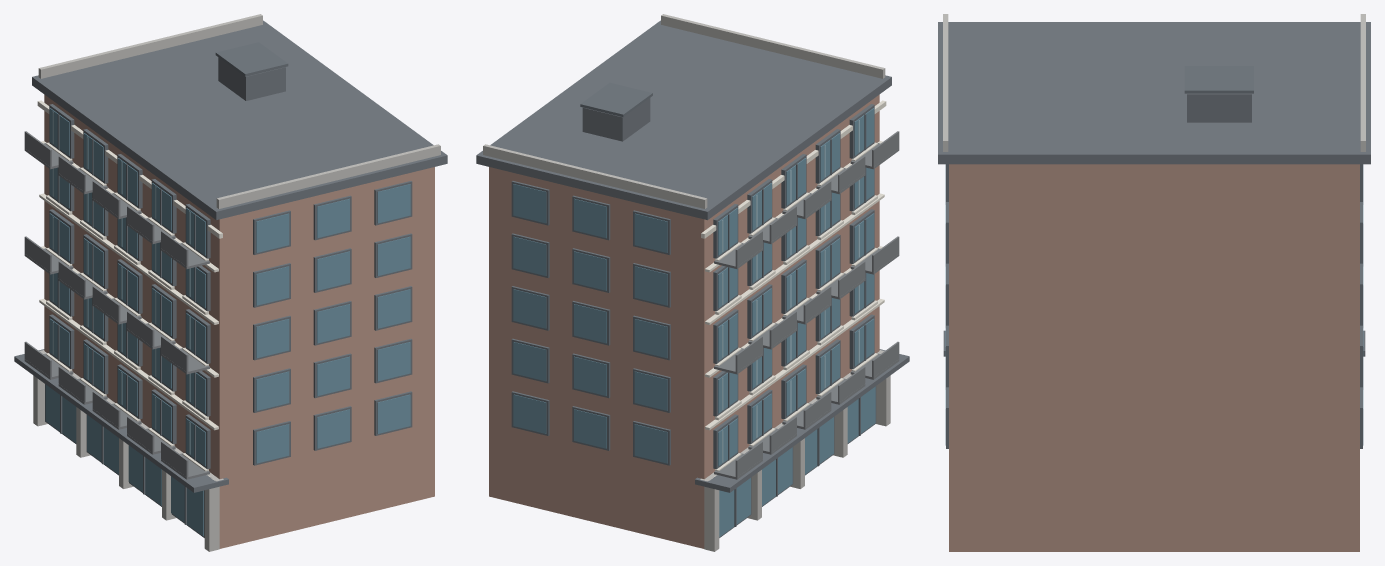
Rendered from edificio_v25_2.glb.
3 views of the same model, side by side, from view 1: azimuth 30°, elevation 25°; view 2: azimuth 150°, elevation 25°; view 3: azimuth 270°, elevation 25° (orthographic). The views are drawn at different scales.
Parts seen in each view (by area): view 1: brick, roof, glass, frame, balcony, concrete, trim, glasslight; view 2: brick, roof, glass, frame, balcony, concrete, trim, glasslight; view 3: brick, roof, frame, concrete, glass.
Boxes of the visible parts, box(x1,y1,x2,y2) form: brick: box(44, 94, 434, 548); roof: box(14, 20, 447, 492); glass: box(45, 108, 410, 536); frame: box(45, 42, 412, 537); balcony: box(24, 131, 209, 479); concrete: box(33, 14, 440, 551); trim: box(37, 100, 222, 480); glasslight: box(52, 111, 190, 454); brick: box(489, 94, 879, 548); roof: box(476, 20, 909, 492); glass: box(513, 108, 875, 536); frame: box(511, 82, 876, 537); balcony: box(714, 131, 899, 479); concrete: box(483, 14, 890, 551); trim: box(701, 100, 886, 480); glasslight: box(722, 120, 859, 462); brick: box(949, 164, 1359, 551); roof: box(938, 22, 1370, 356); frame: box(946, 66, 1362, 448); concrete: box(943, 14, 1365, 151); glass: box(945, 164, 1363, 445).
Size of the model in its own units: 15.75 by 22.18 by 20.
